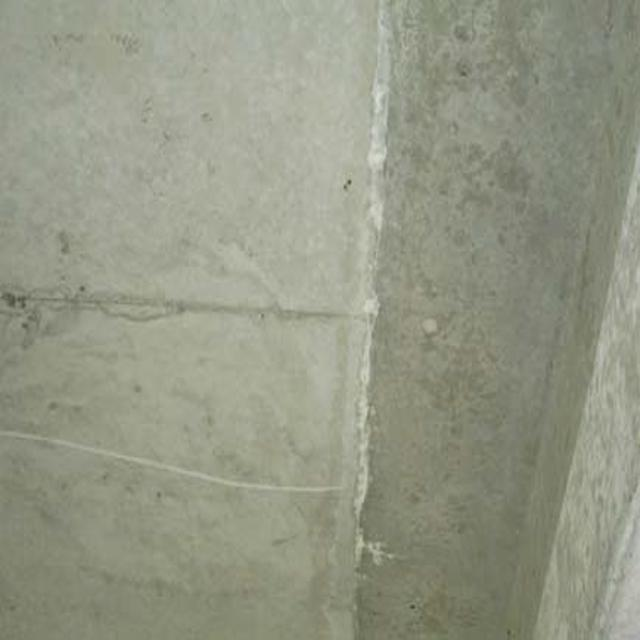freelime: (344, 87, 409, 556)
